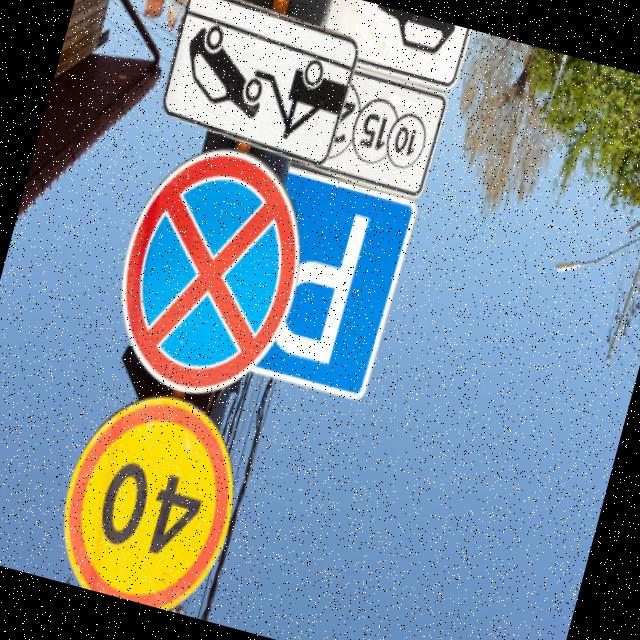no_parking: (92, 122, 323, 415)
